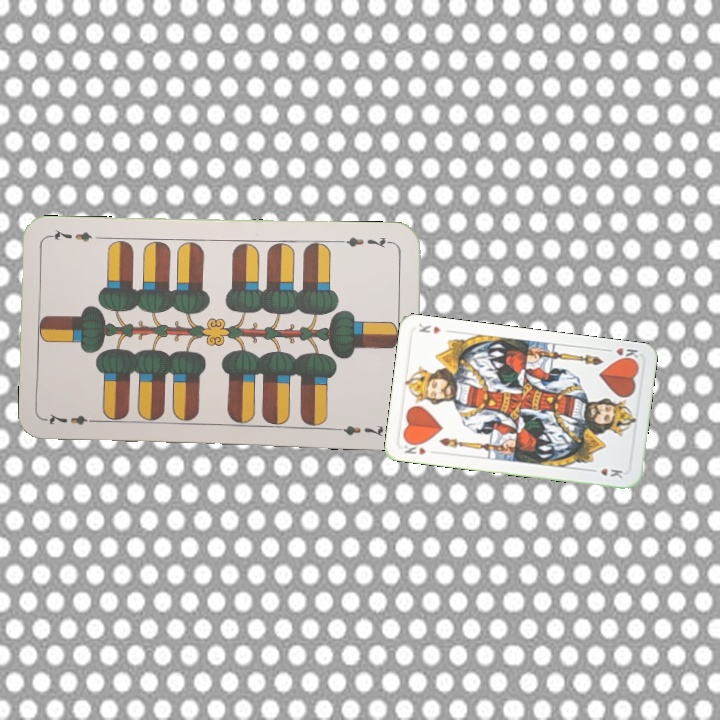E7: (336, 232, 395, 251), (43, 409, 102, 428)
HK: (601, 343, 642, 365), (399, 438, 429, 457)
